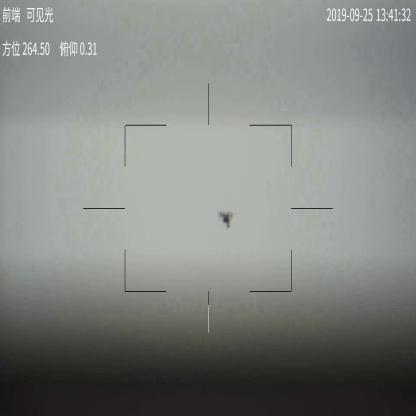uav: (217, 206, 234, 229)
